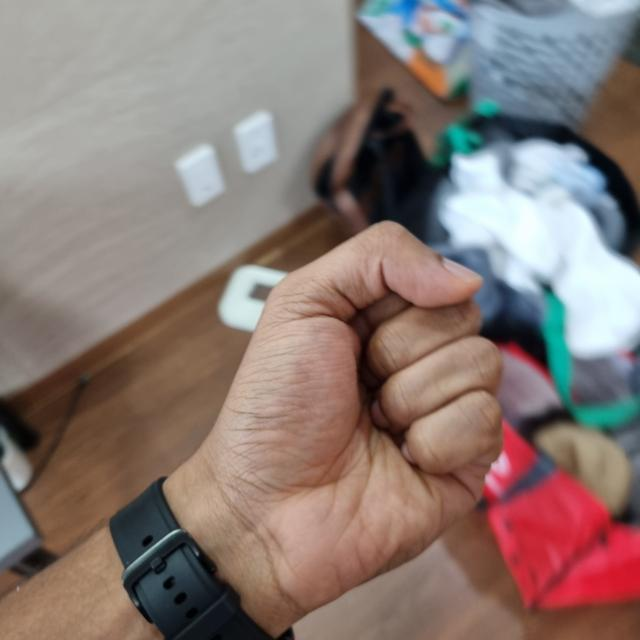Rock: (174, 225, 501, 633)
